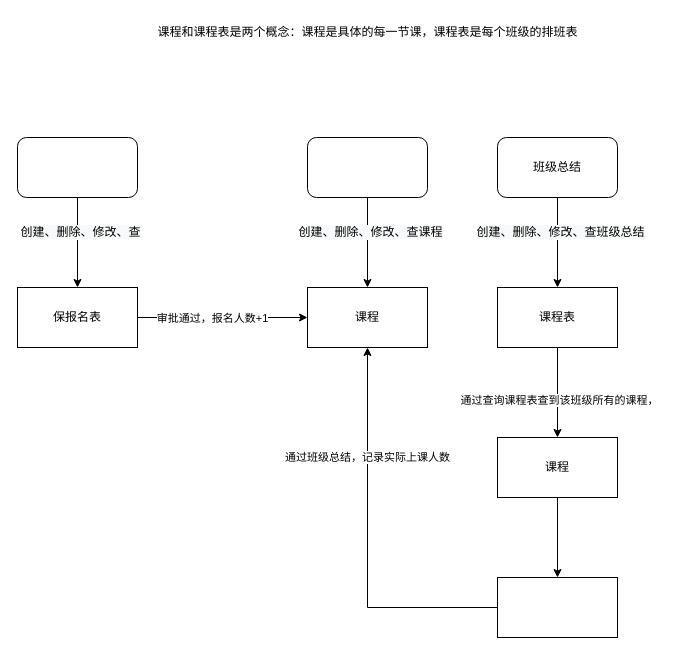
The diagram is 675 pixels wide and 655 high, and some of its shapes have lost their labels. Each missing label, with the centre of its shape:
对课程的业务: pixel 367 167
班级总结表 （存储班级信息，相应的课程到勤人数等）: pixel 557 607
长者报名: pixel 77 167
